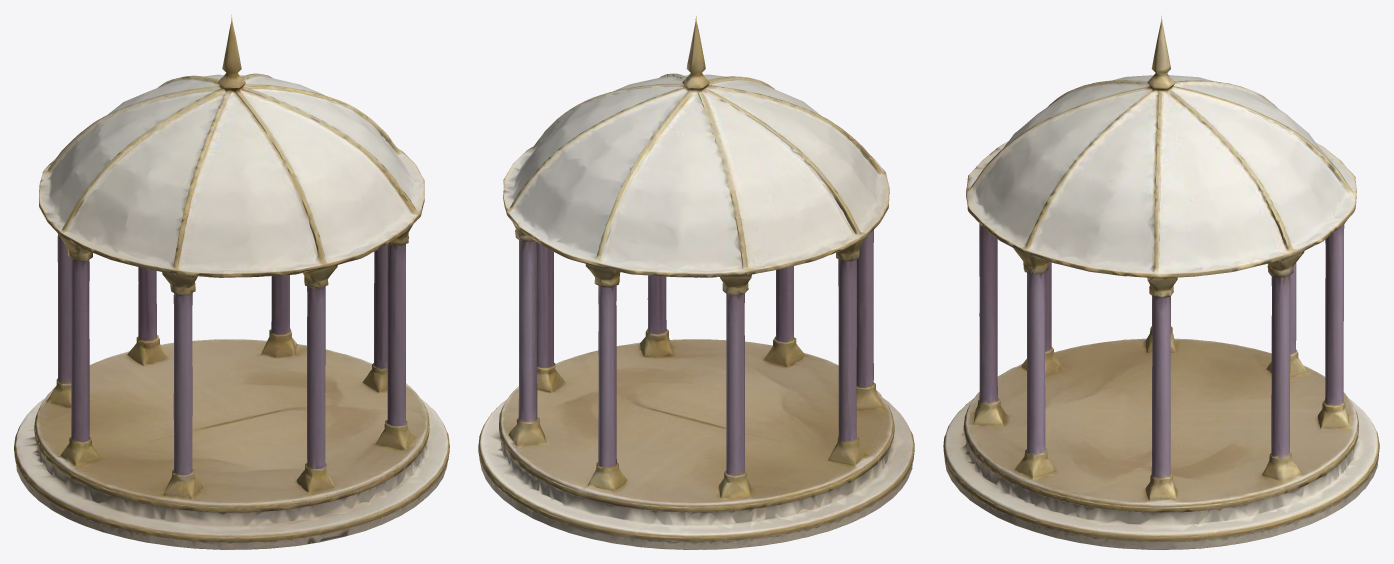
Rendered from gazebo.glb.
3 renders of one model, left to right at view 1: azimuth 30°, elevation 25°; view 2: azimuth 150°, elevation 25°; view 3: azimuth 270°, elevation 25°, orthographic.
Parts seen in each view (by area): view 1: tripo_node_fadecfad-b971-4298-bee8-518311b92d88; view 2: tripo_node_fadecfad-b971-4298-bee8-518311b92d88; view 3: tripo_node_fadecfad-b971-4298-bee8-518311b92d88.
Part boxes in pixels (box(x1,y1,x2,y2)): tripo_node_fadecfad-b971-4298-bee8-518311b92d88: box(14, 15, 449, 549); tripo_node_fadecfad-b971-4298-bee8-518311b92d88: box(478, 16, 914, 549); tripo_node_fadecfad-b971-4298-bee8-518311b92d88: box(943, 15, 1379, 549).
Bounding box in the file's own units: 0.8906 × 1 × 0.8895.
Materials: 1 (1 with a texture image).
